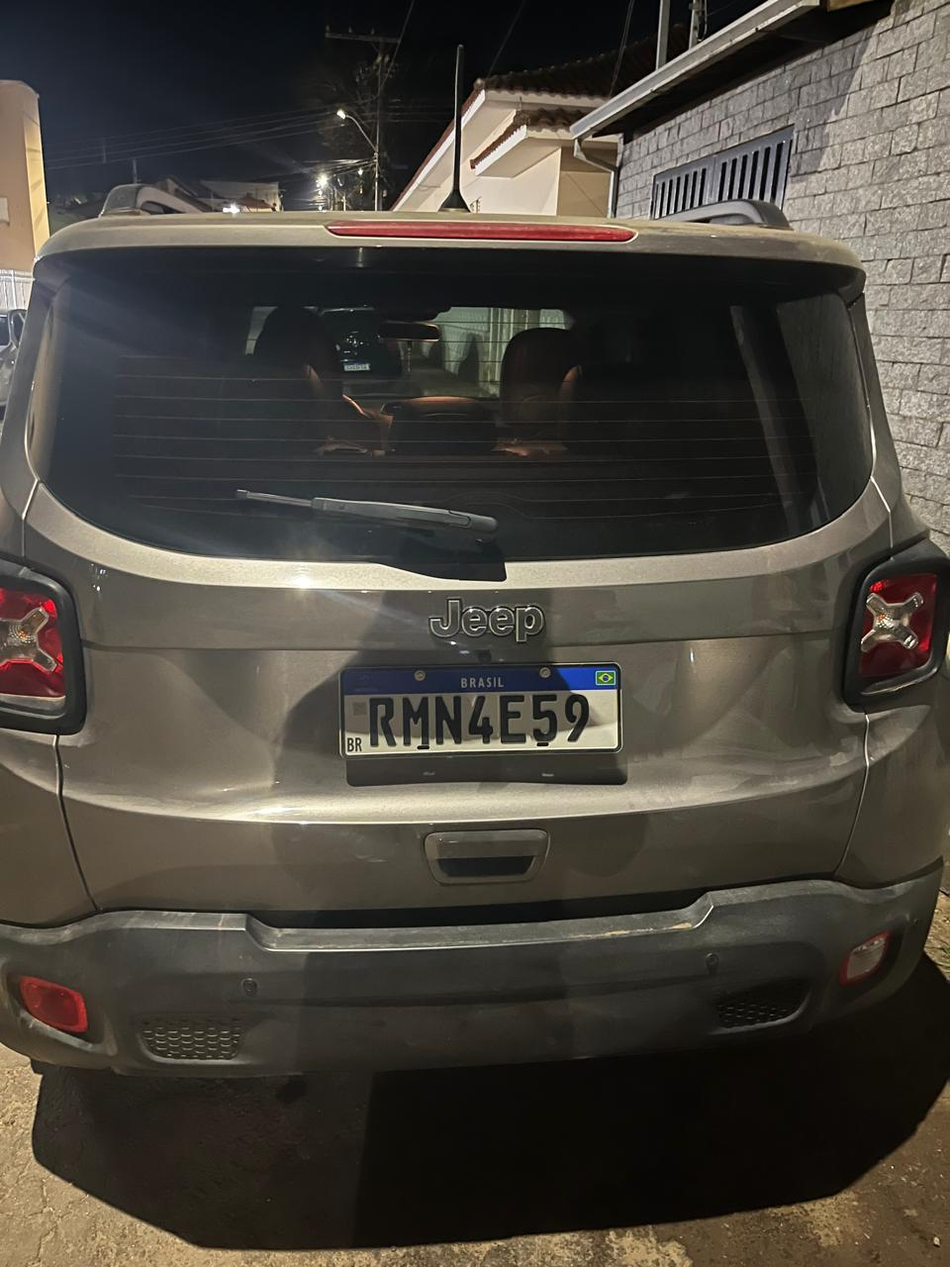4: (466, 686, 494, 746)
5: (525, 681, 565, 750)
9: (557, 691, 605, 758)
E: (490, 696, 537, 752)
M: (393, 692, 436, 756)
N: (428, 693, 472, 752)
R: (352, 693, 405, 756)
